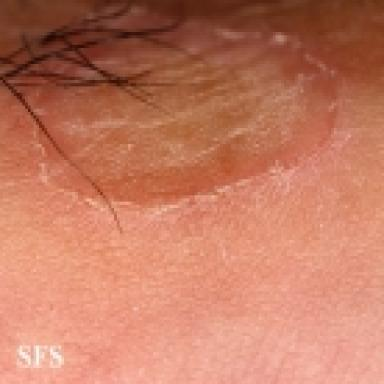Porokeratosis: (27, 7, 344, 214)
